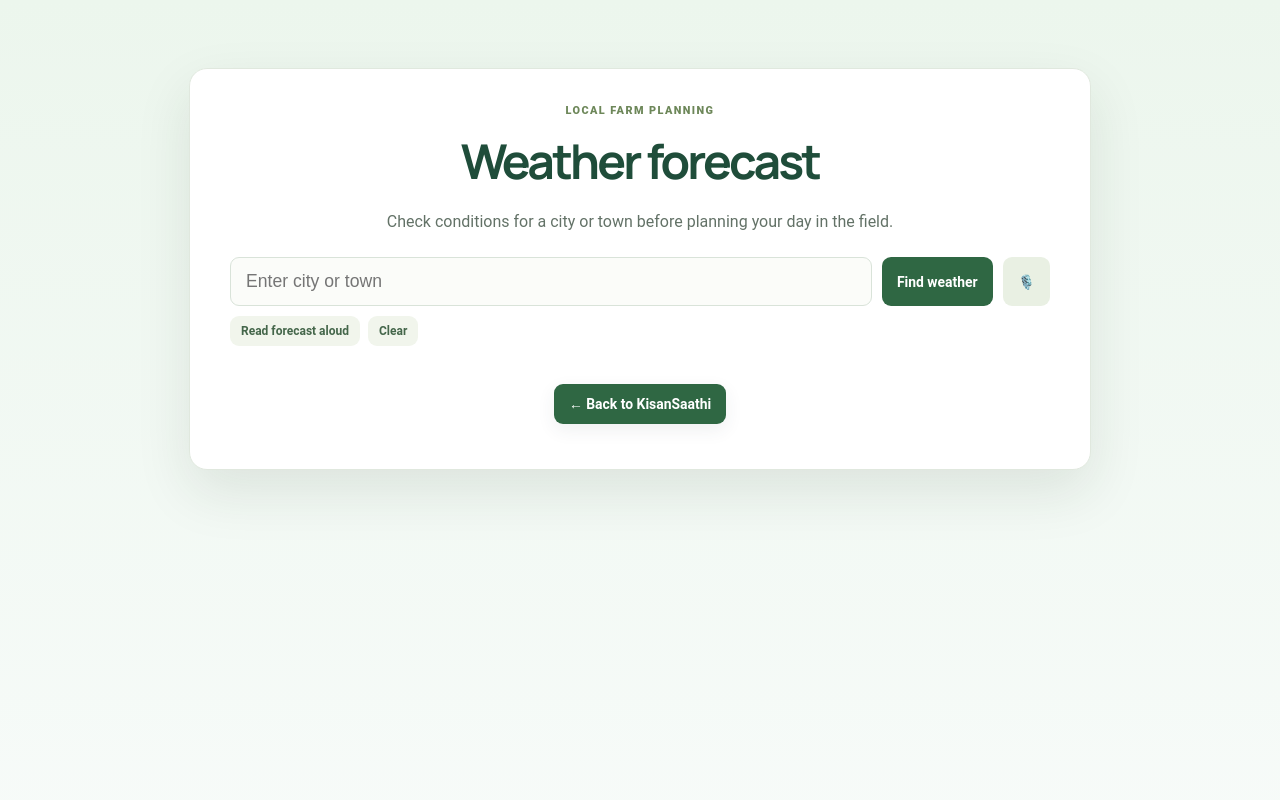
Test: shows the weather and the 5-day outlook for a town
Type "Baramati" into the field with placeholder "Enter city or town" at (551, 282), box [230, 257, 872, 306]
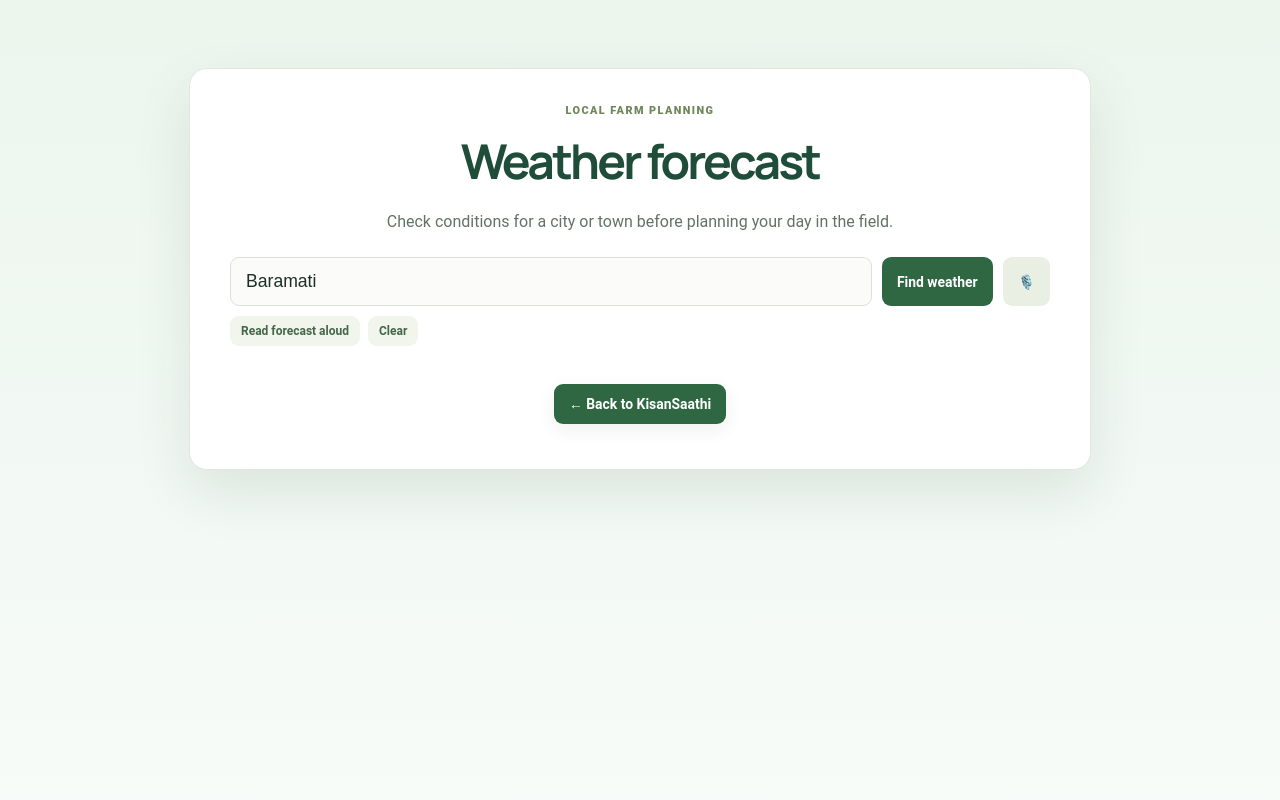
Click the button "Find weather" at (937, 282), box [882, 257, 993, 306]
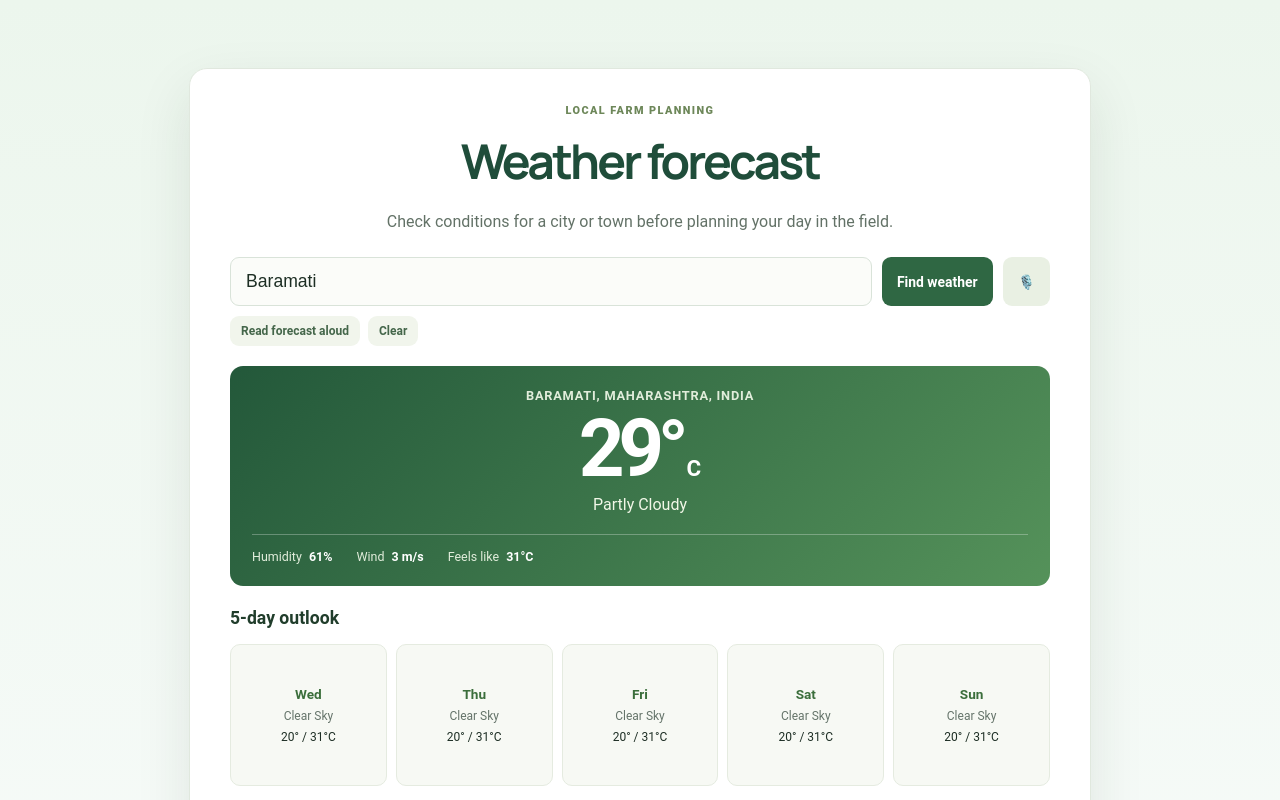
Check: the text "Baramati, Maharashtra, India" is shown, box [526, 388, 754, 403]
Check: the text "partly cloudy" is shown, box [593, 495, 687, 514]
Check: the heading "5-day outlook" is shown, box [230, 608, 339, 628]
